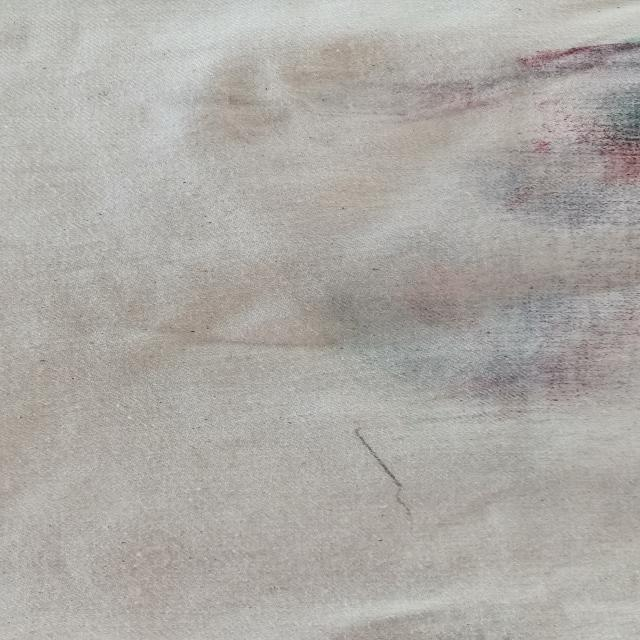taaaches: (236, 26, 636, 416), (332, 422, 441, 524)
